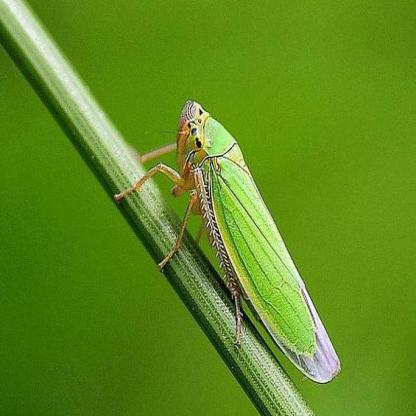Green-Leafhopper: (114, 103, 338, 381)
